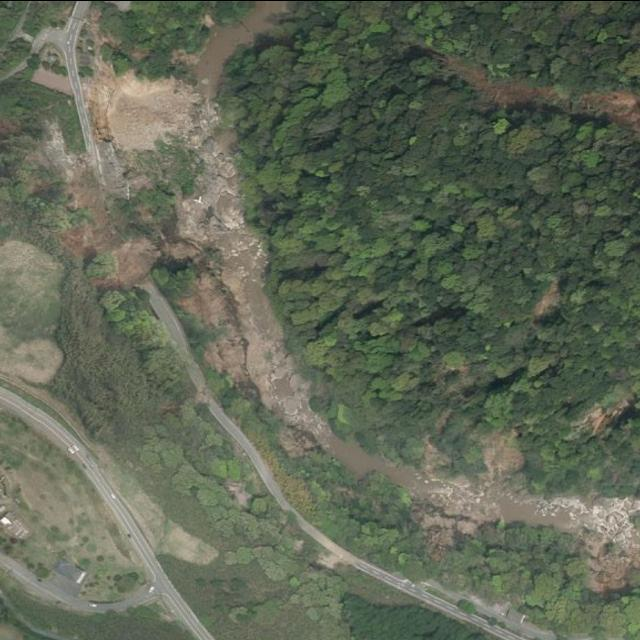landslide: (97, 72, 332, 449), (66, 0, 95, 141)
